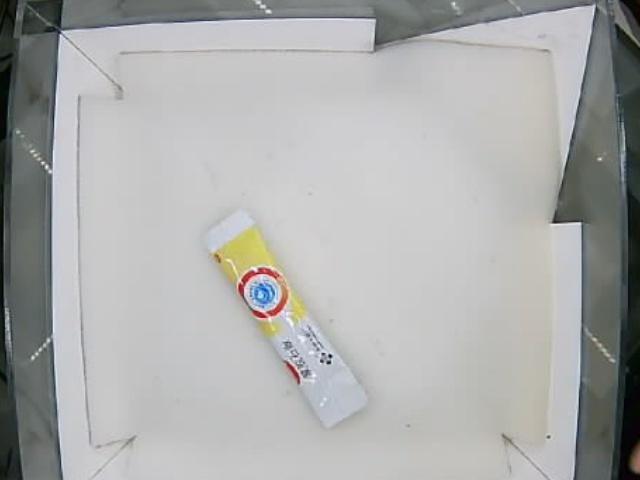Medicine: (203, 208, 369, 424)
